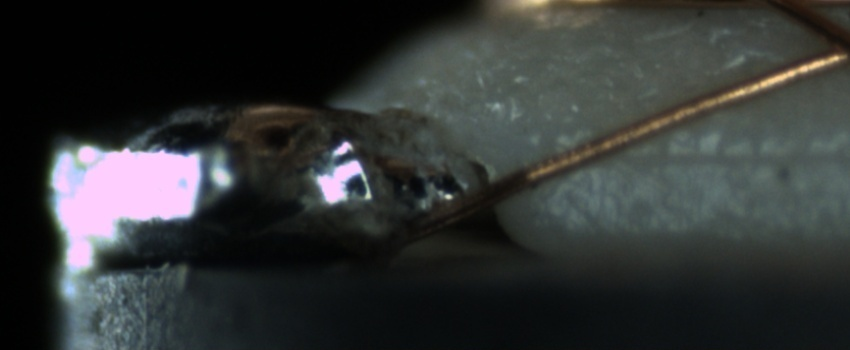CL: (796, 14, 850, 75)
DL: (575, 120, 844, 189)
